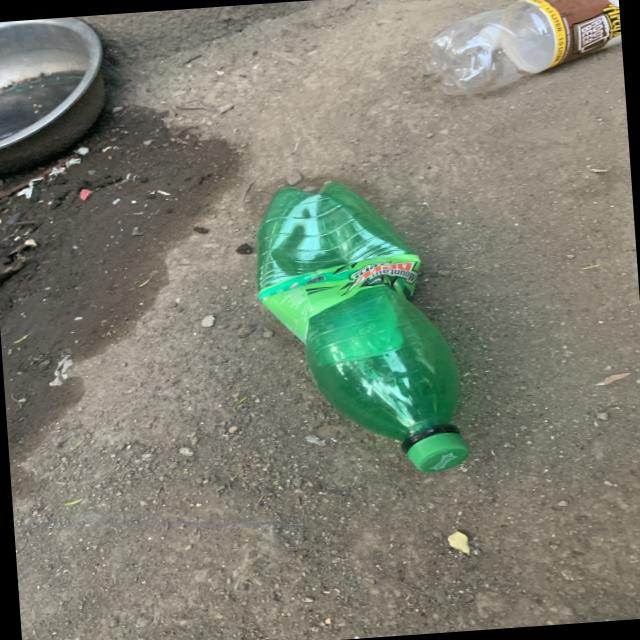Bottle: (256, 182, 468, 472)
